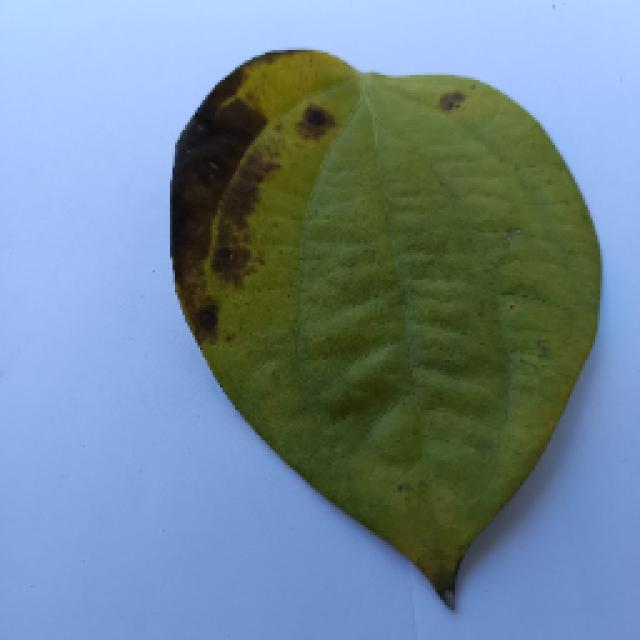slow-decline: (135, 55, 613, 615)
